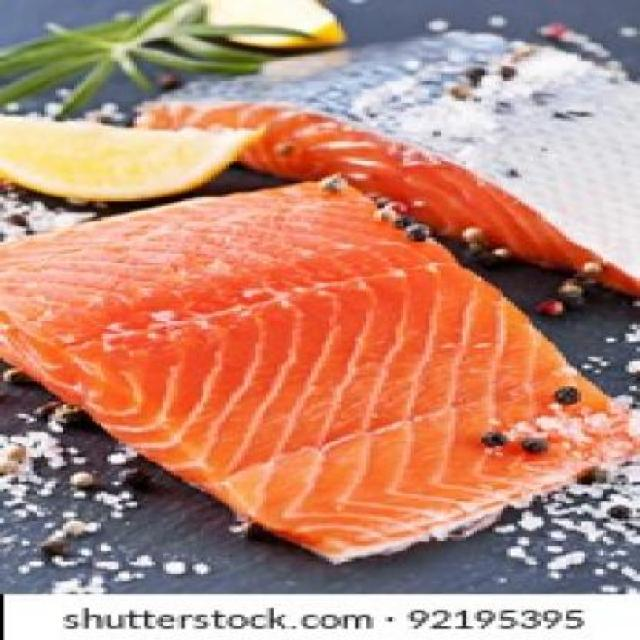salmon: (5, 177, 600, 572)
